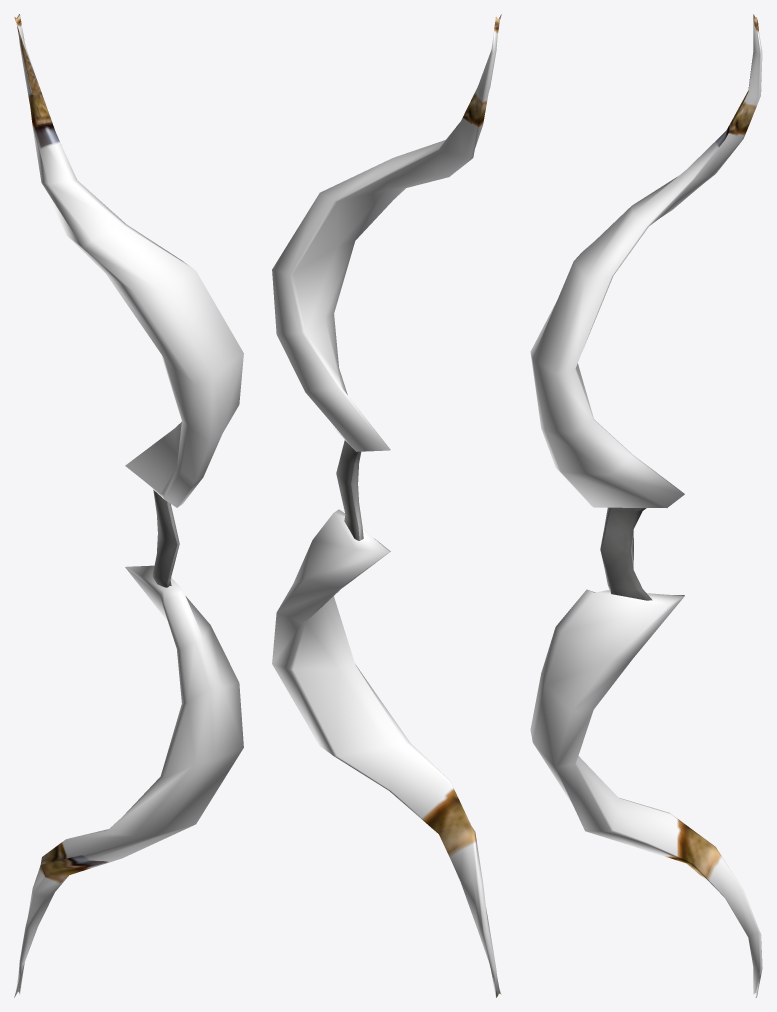
The model's file is bow01.fbx.
3 views of the same model, side by side, from view 1: azimuth 30°, elevation 25°; view 2: azimuth 210°, elevation 25°; view 3: azimuth 270°, elevation 25° (orthographic).
Visible parts, largest first — view 1: bow01; view 2: bow01; view 3: bow01.
Boxes of the visible parts, <box> form: bow01: <box>14,14,243,997</box>; bow01: <box>272,14,501,997</box>; bow01: <box>530,14,762,997</box>.
Size of the model in its own units: 0.535 by 3.73 by 0.8008.
